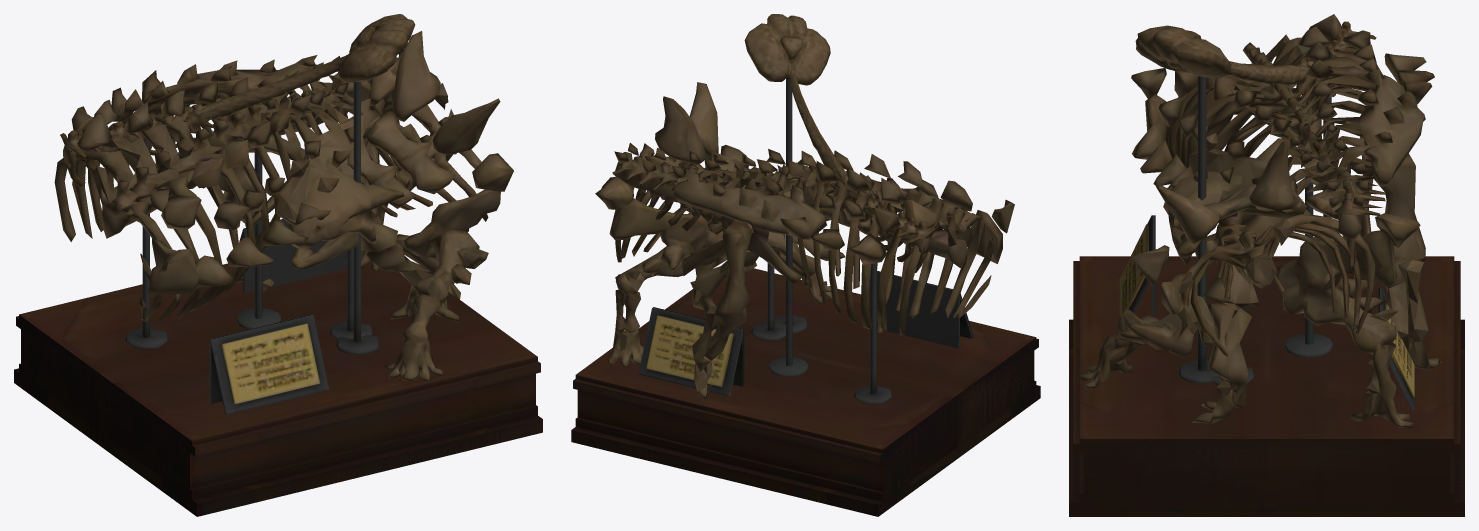
The model's file is fossil-ankylo.glb.
3 renders of one model, left to right at view 1: azimuth 30°, elevation 25°; view 2: azimuth 150°, elevation 25°; view 3: azimuth 270°, elevation 25°, orthographic. The views are drawn at different scales.
Visible parts, largest first — view 1: mFossilBaseEnd (×2), mFtrFossilAnkylosaurusB, mFossilBaseMiddle, mFtrFossilAnkylosaurusA, mFtrFossilAnkylosaurusC; view 2: mFossilBaseEnd (×2), mFossilBaseMiddle, mFtrFossilAnkylosaurusB, mFtrFossilAnkylosaurusA, mFtrFossilAnkylosaurusC; view 3: mFossilBaseEnd (×2), mFtrFossilAnkylosaurusB, mFtrFossilAnkylosaurusA, mFossilBaseMiddle, mFtrFossilAnkylosaurusC.
Boxes of the visible parts, box(x1,y1,x2,y2) form: mFossilBaseEnd (×2): box(16, 81, 542, 516); mFtrFossilAnkylosaurusB: box(54, 47, 459, 322); mFossilBaseMiddle: box(14, 150, 542, 516); mFtrFossilAnkylosaurusA: box(288, 31, 513, 381); mFtrFossilAnkylosaurusC: box(60, 14, 415, 186); mFossilBaseEnd (×2): box(571, 77, 1038, 516); mFossilBaseMiddle: box(571, 235, 1040, 516); mFtrFossilAnkylosaurusB: box(612, 143, 1014, 399); mFtrFossilAnkylosaurusA: box(595, 82, 845, 366); mFtrFossilAnkylosaurusC: box(744, 14, 935, 272); mFossilBaseEnd (×2): box(1069, 76, 1464, 516); mFtrFossilAnkylosaurusB: box(1131, 14, 1442, 423); mFtrFossilAnkylosaurusA: box(1079, 142, 1420, 428); mFossilBaseMiddle: box(1069, 170, 1464, 516); mFtrFossilAnkylosaurusC: box(1135, 21, 1376, 98).
Bounding box in the file's own units: 20.2 × 22.22 × 18.33.
6 materials, 6 textured.
